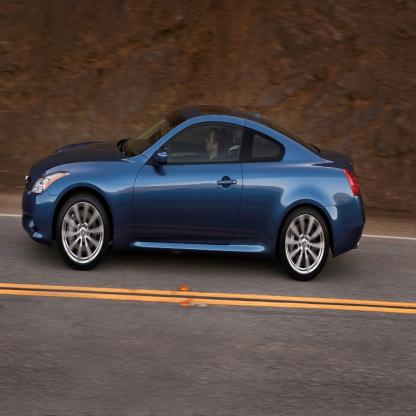Vehicle: (22, 102, 367, 284)
